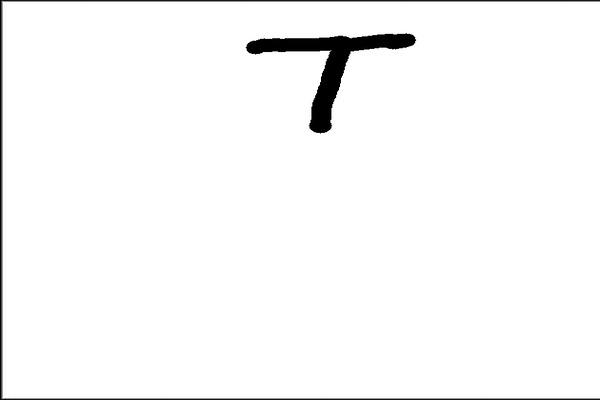T: (248, 26, 422, 135)
